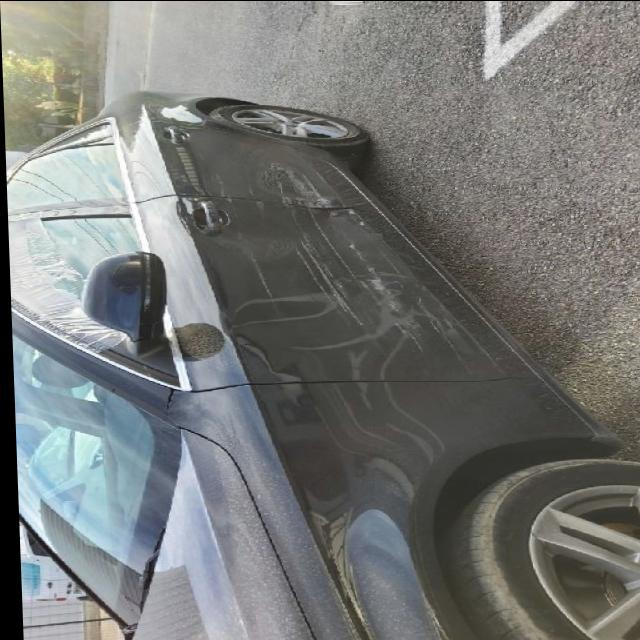porte-avant: (6, 202, 539, 390)
